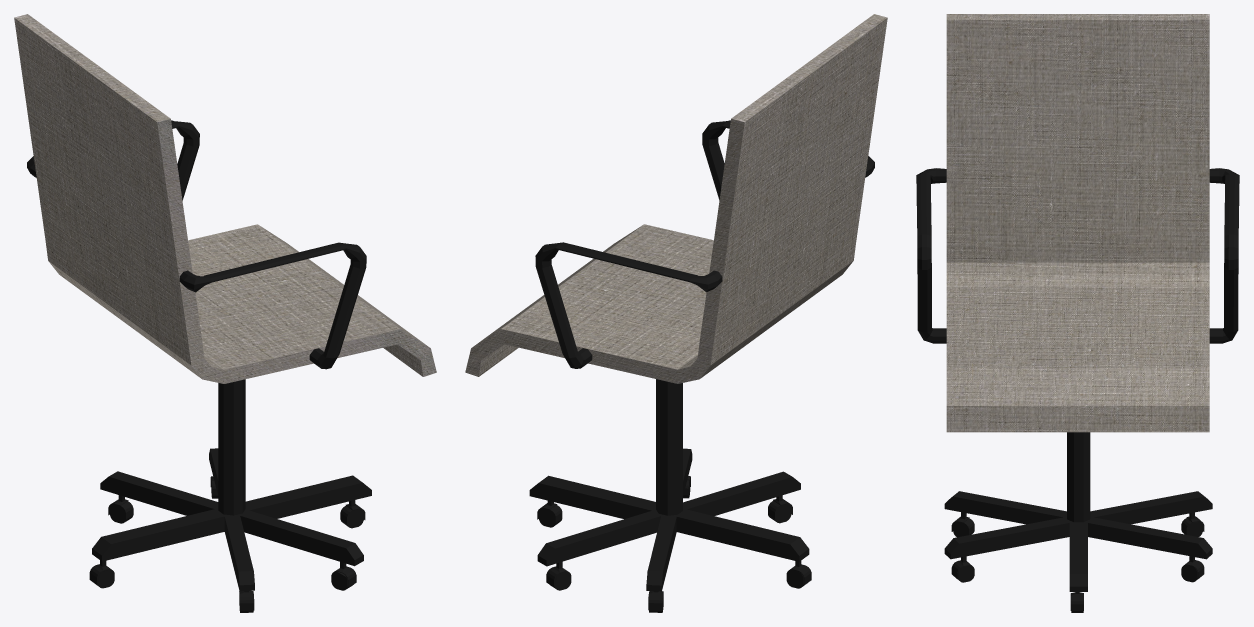
File: Kärpänen_RullaTuoli2.fbx
The picture shows the model from 3 angles, left to right: view 1: azimuth 30°, elevation 25°; view 2: azimuth 150°, elevation 25°; view 3: azimuth 270°, elevation 25°; orthographic projection. The views are drawn at different scales.
Visible parts, largest first — view 1: Cube.041, Cube.042, Cube.043, Cube.044; view 2: Cube.041, Cube.042, Cube.044, Cube.043; view 3: Cube.041, Cube.042, Cube.043, Cube.044.
Boxes of the visible parts, <box> form: Cube.041: <box>14,14,436,383</box>; Cube.042: <box>89,379,371,612</box>; Cube.043: <box>179,242,366,369</box>; Cube.044: <box>27,120,199,200</box>; Cube.041: <box>465,14,887,383</box>; Cube.042: <box>529,379,811,612</box>; Cube.044: <box>535,242,722,368</box>; Cube.043: <box>702,120,874,200</box>; Cube.041: <box>946,14,1209,432</box>; Cube.042: <box>944,432,1212,612</box>; Cube.043: <box>916,168,946,343</box>; Cube.044: <box>1209,168,1239,343</box>.
Bounding box in the file's own units: 1285 × 2267 × 1389.
2 materials, 1 textured.
